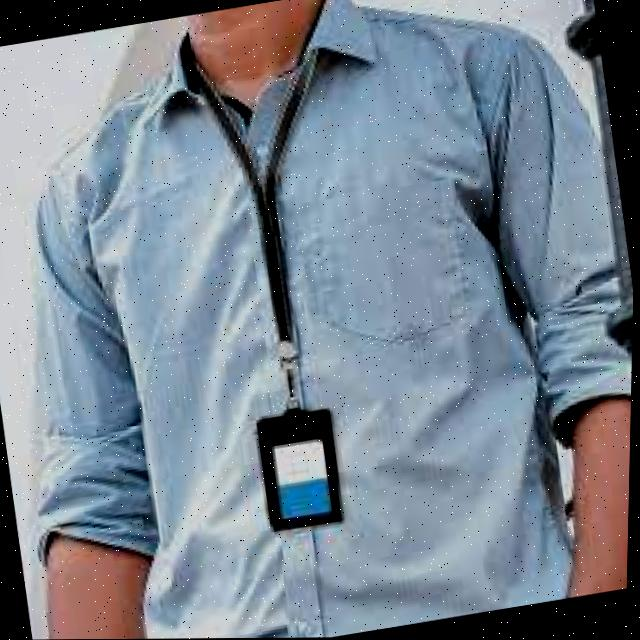id_card: (193, 91, 371, 544)
